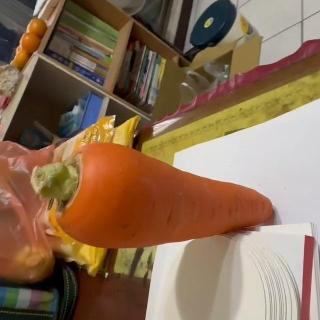carrot: (32, 141, 276, 251)
